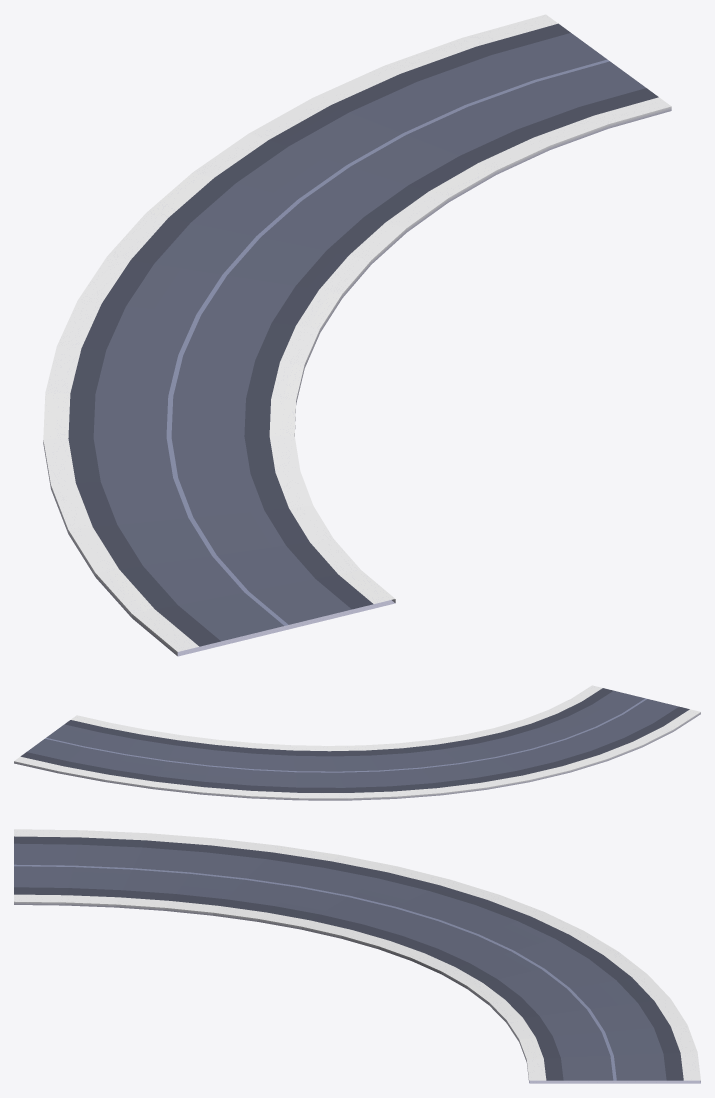
The model's file is road-Turn-Flat-Flat-Up1-Right-Size4.glb.
3 renders of one model, top to bottom at view 1: azimuth 30°, elevation 25°; view 2: azimuth 150°, elevation 25°; view 3: azimuth 270°, elevation 25°, orthographic. The views are drawn at different scales.
Parts seen in each view (by area): view 1: road-Turn-Flat-Flat-Up1-Right-Size4; view 2: road-Turn-Flat-Flat-Up1-Right-Size4; view 3: road-Turn-Flat-Flat-Up1-Right-Size4.
Part boxes in pixels (bbox=[...]): road-Turn-Flat-Flat-Up1-Right-Size4: bbox=[43, 14, 671, 656]; road-Turn-Flat-Flat-Up1-Right-Size4: bbox=[14, 685, 700, 800]; road-Turn-Flat-Flat-Up1-Right-Size4: bbox=[14, 829, 700, 1083].
Size of the model in its own units: 4 by 0.27 by 4.
1 material, 1 textured.
